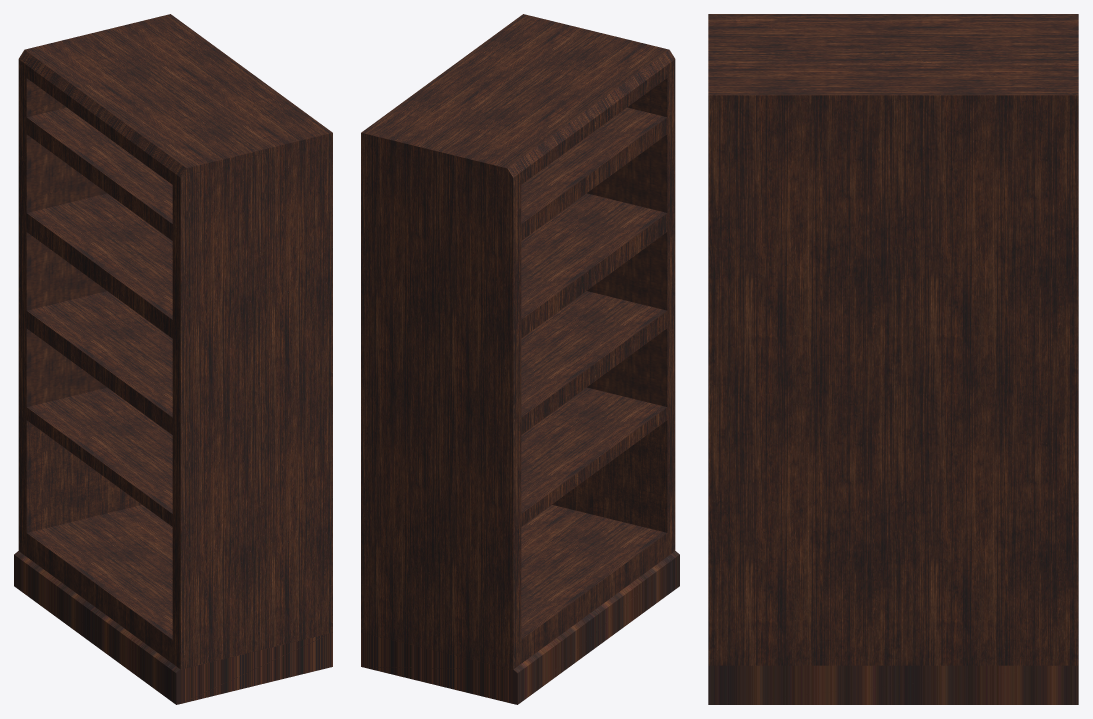
Rendered from bookshelf_model.FBX.
The picture shows the model from 3 angles, left to right: view 1: azimuth 30°, elevation 25°; view 2: azimuth 150°, elevation 25°; view 3: azimuth 270°, elevation 25°; orthographic projection. The views are drawn at different scales.
Visible parts, largest first — view 1: bookshelf; view 2: bookshelf; view 3: bookshelf.
Boxes of the visible parts, bbox=[...] form: bookshelf: bbox=[14, 14, 332, 704]; bookshelf: bbox=[361, 14, 679, 704]; bookshelf: bbox=[708, 14, 1078, 704].
Size of the model in its own units: 19.68 by 64.12 by 35.3.
1 material, 1 textured.
